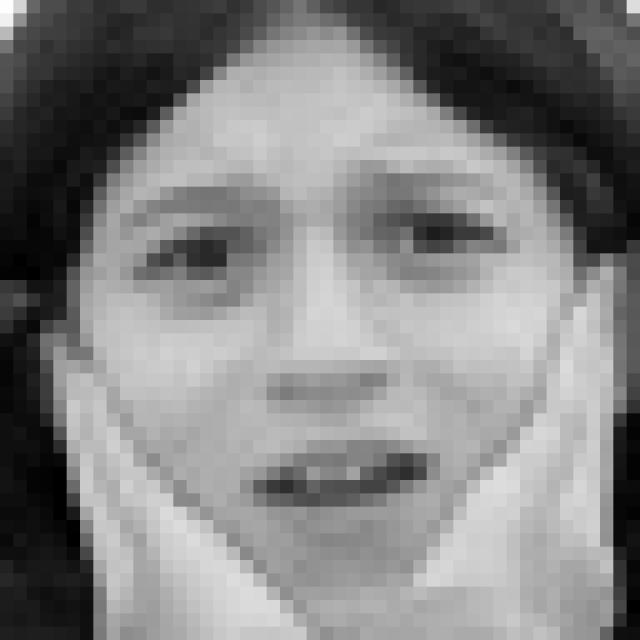fear: (118, 144, 528, 568)
